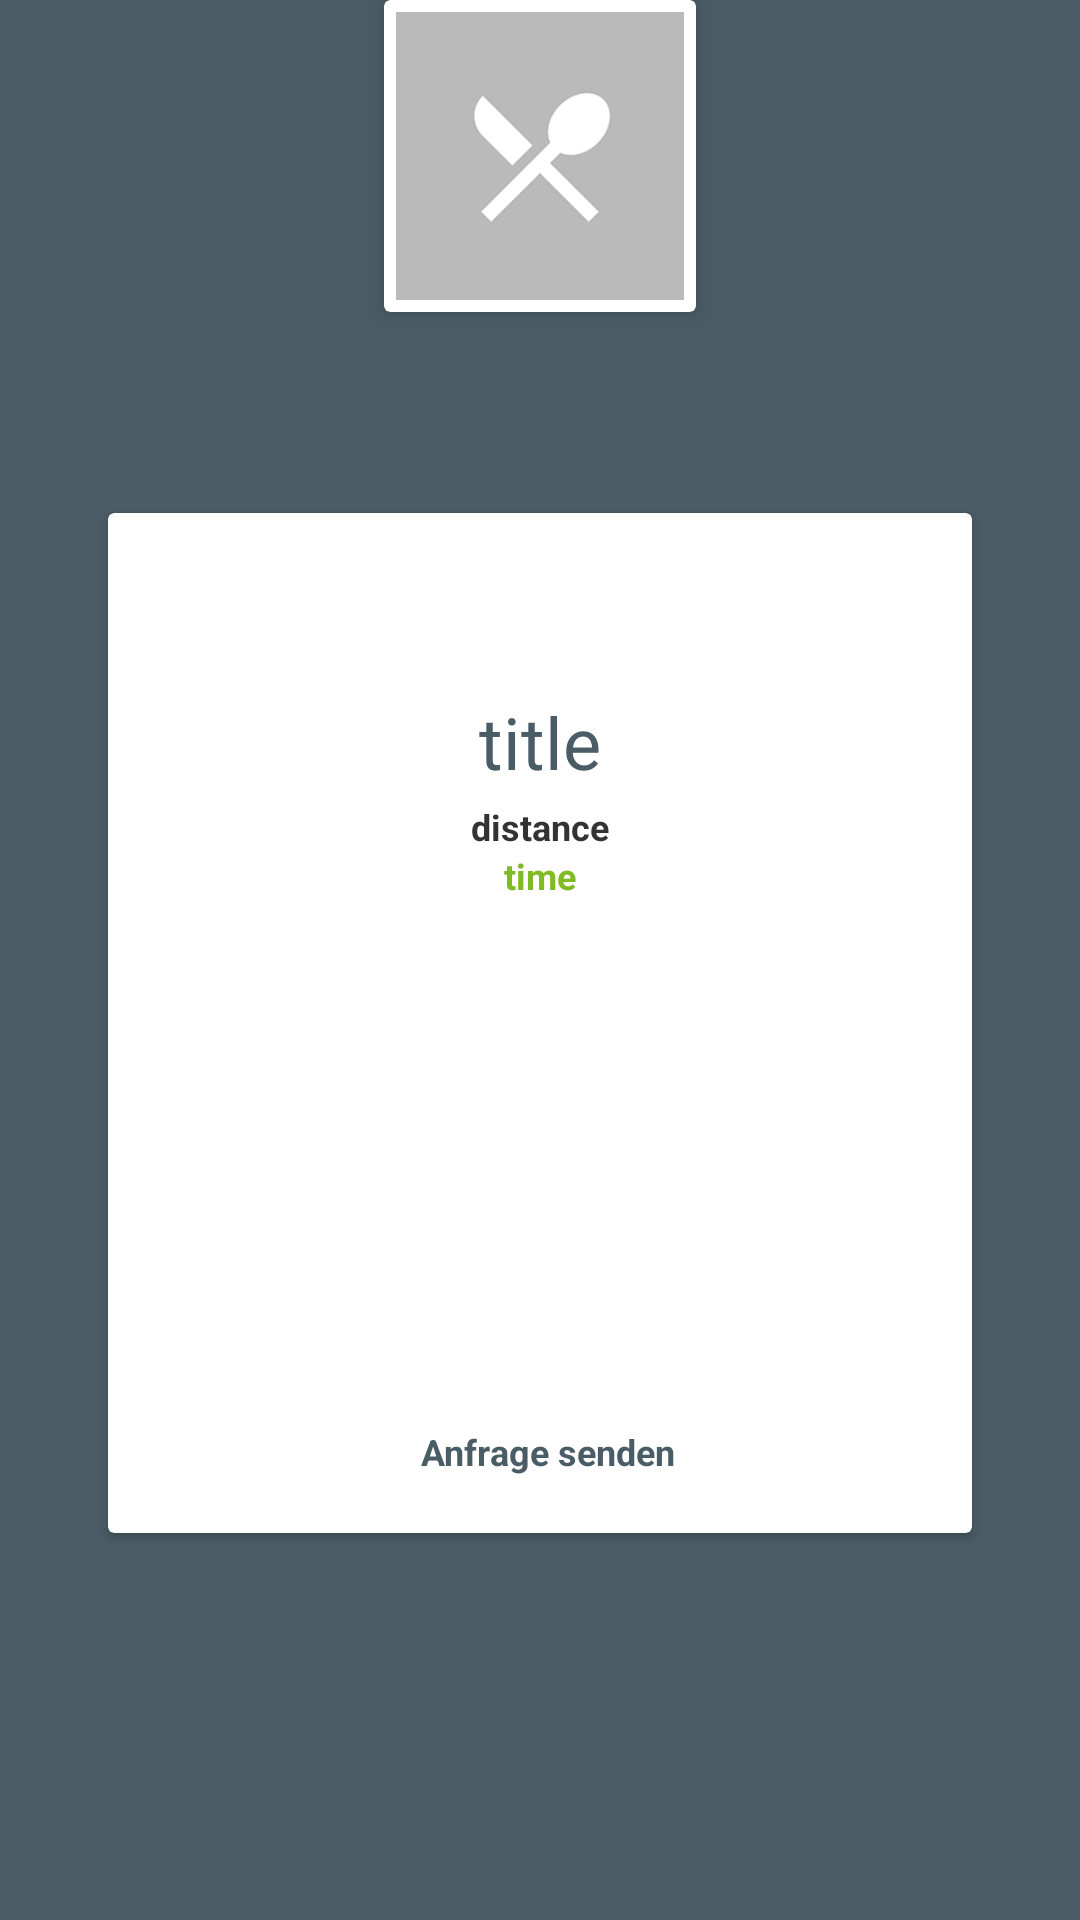

Named icons in this screenshot (1080x1920) and their centers, (x=x, y=y):
recipe: (x=540, y=156)
